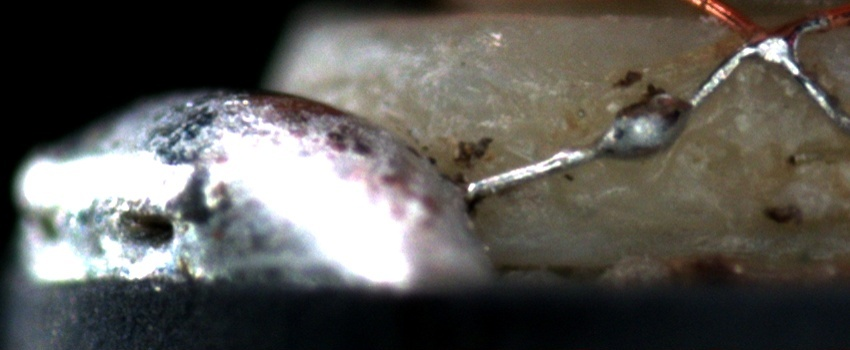CL: (716, 8, 810, 79)
TB: (596, 89, 691, 163)
TTCW: (467, 7, 838, 196)
